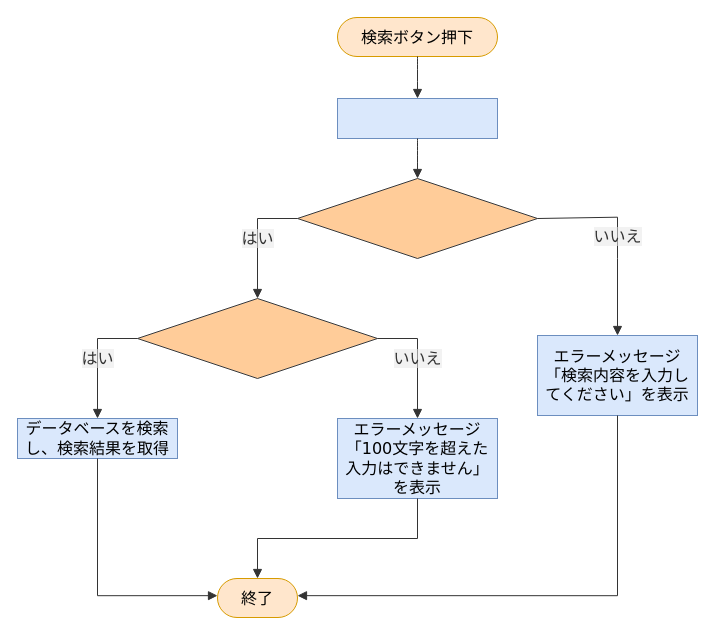
Some shapes in this 715 by 635 pixel diagram are drawn without their labels. Here are the shapes that lost their labels. From the top down, the centre of each, then its label:
At point (417, 118): "検索キーワード確認".
At point (417, 218): "検索条件が1項目以上 入力されている？".
At point (257, 338): "入力されている項目は 99文字以内か？".
